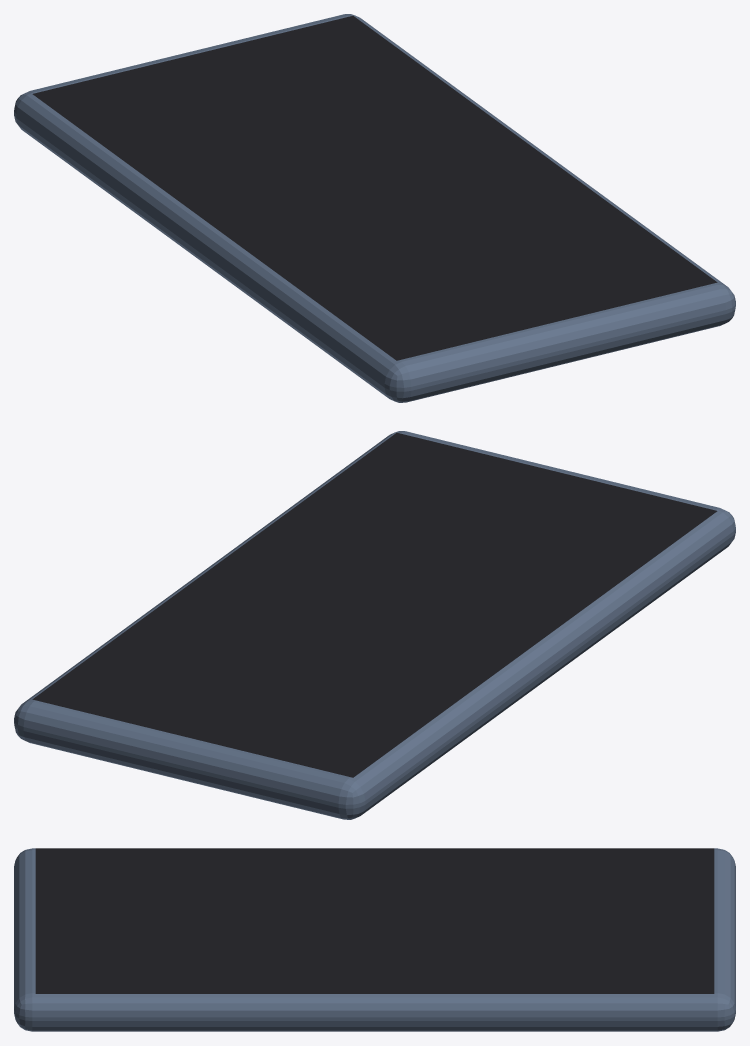
File: infinix-gen-2025-budget-2025.glb
The picture shows the model from 3 angles, top to bottom: view 1: azimuth 30°, elevation 25°; view 2: azimuth 150°, elevation 25°; view 3: azimuth 270°, elevation 25°; orthographic projection. The views are drawn at different scales.
Visible parts, largest first — view 1: Phone_Screen, Phone_Body; view 2: Phone_Screen, Phone_Body; view 3: Phone_Screen, Phone_Body.
Boxes of the visible parts, box(x1,y1,x2,y2) form: Phone_Screen: box(32, 16, 717, 360); Phone_Body: box(14, 14, 735, 402); Phone_Screen: box(32, 433, 717, 777); Phone_Body: box(14, 431, 735, 819); Phone_Screen: box(35, 848, 714, 993); Phone_Body: box(14, 848, 735, 1031).
Bounding box in the file's own units: 0.0776 × 0.0085 × 0.1494.
